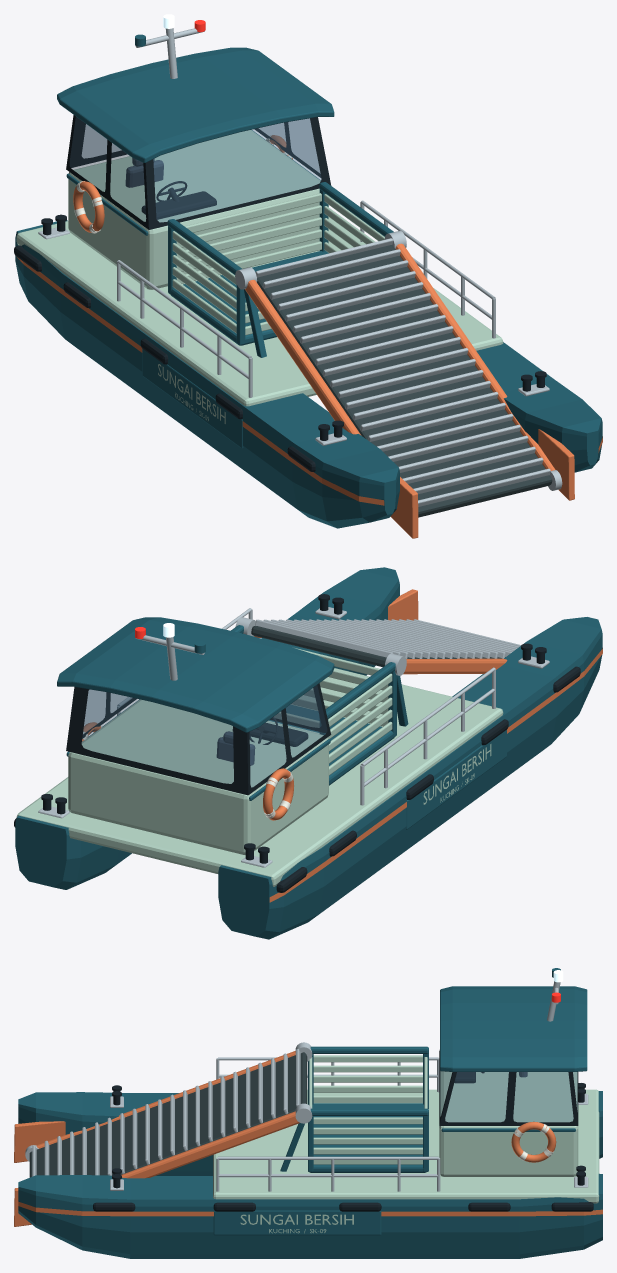
3 views of the same model, one above another, from view 1: azimuth 30°, elevation 25°; view 2: azimuth 150°, elevation 25°; view 3: azimuth 270°, elevation 25° (orthographic). The views are drawn at different scales.
Visible parts, largest first — view 1: Kuching River Skimmer; view 2: Kuching River Skimmer; view 3: Kuching River Skimmer.
Part boxes in pixels (x1=…): Kuching River Skimmer: x1=14, y1=14, x2=602, y2=538; Kuching River Skimmer: x1=14, y1=567, x2=602, y2=939; Kuching River Skimmer: x1=14, y1=968, x2=602, y2=1258.
Bounding box in the file's own units: 3.72 × 3.74 × 8.35.
